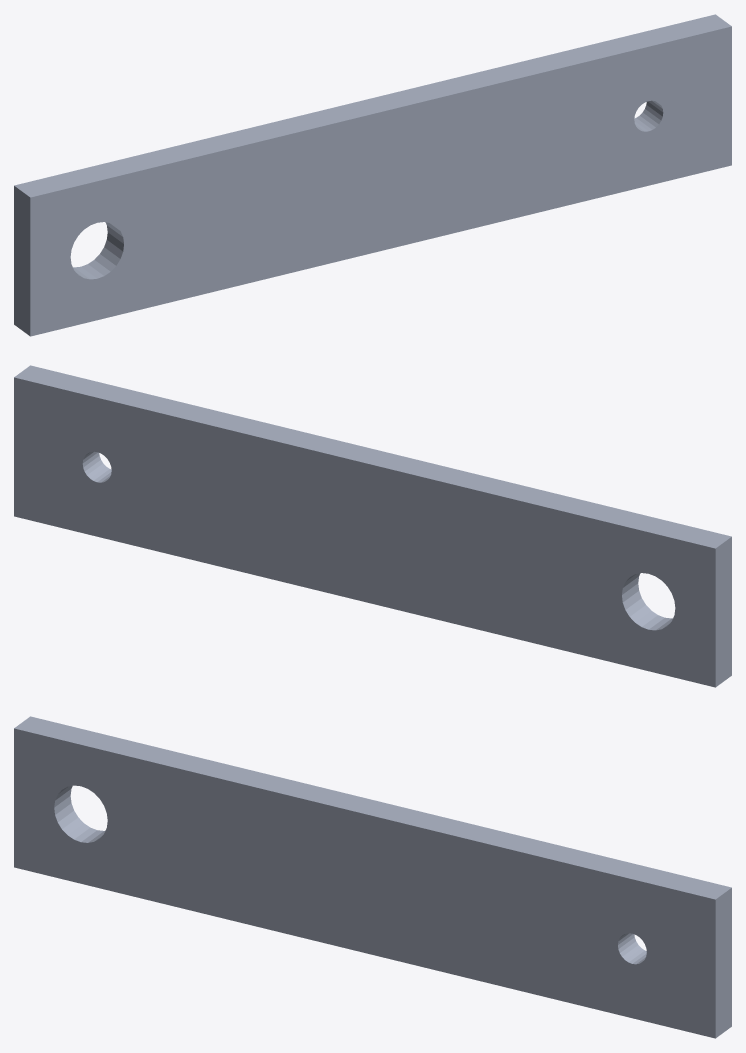
3 renders of one model, top to bottom at view 1: azimuth 30°, elevation 25°; view 2: azimuth 150°, elevation 25°; view 3: azimuth 330°, elevation 25°, orthographic.
Visible parts, largest first — view 1: node0; view 2: node0; view 3: node0.
Part boxes in pixels (bbox=[...]): node0: bbox=[14, 14, 731, 336]; node0: bbox=[14, 365, 731, 687]; node0: bbox=[14, 716, 731, 1038].
Bounding box in the file's own units: 0.2464 × 0.01 × 0.0466.
